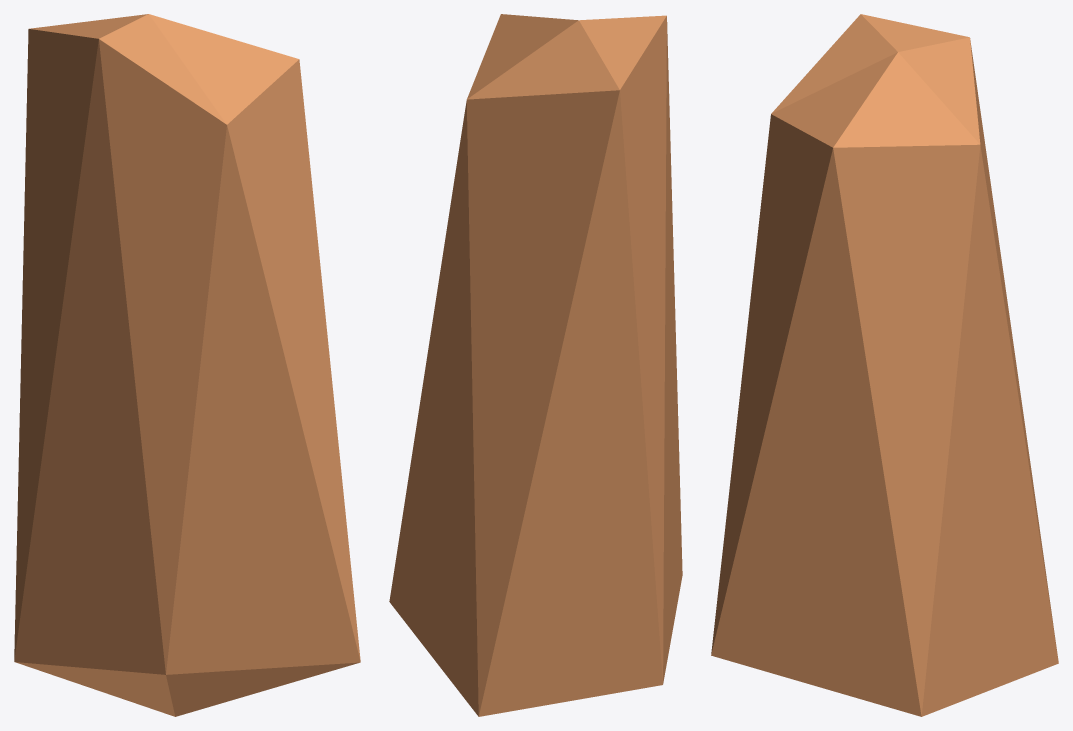
The model's file is Stone2.fbx.
The picture shows the model from 3 angles, left to right: view 1: azimuth 30°, elevation 25°; view 2: azimuth 150°, elevation 25°; view 3: azimuth 270°, elevation 25°; orthographic projection. The views are drawn at different scales.
Parts seen in each view (by area): view 1: Rock 1; view 2: Rock 1; view 3: Rock 1.
Part boxes in pixels (left/top/right/bottom): Rock 1: left=14, top=14, right=360, bottom=716; Rock 1: left=389, top=14, right=682, bottom=716; Rock 1: left=711, top=14, right=1058, bottom=716.
Bounding box in the file's own units: 45.55 × 104 × 50.9.
